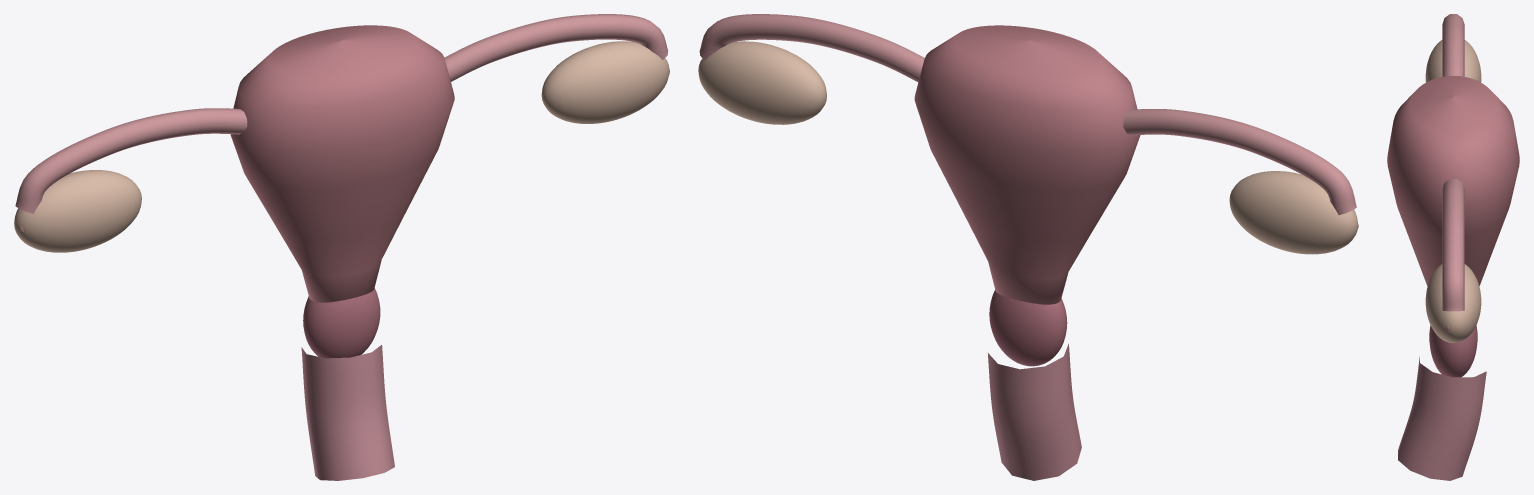
The model's file is female-reproductive.glb.
The picture shows the model from 3 angles, left to right: view 1: azimuth 30°, elevation 25°; view 2: azimuth 150°, elevation 25°; view 3: azimuth 270°, elevation 25°; orthographic projection. The views are drawn at different scales.
Parts seen in each view (by area): view 1: organ_uterus, organ_vagina, organ_left_ovary, organ_right_ovary, organ_right_uterine_tube, organ_left_uterine_tube, organ_cervix; view 2: organ_uterus, organ_vagina, organ_left_ovary, organ_right_ovary, organ_right_uterine_tube, organ_left_uterine_tube, organ_cervix; view 3: organ_uterus, organ_vagina, organ_left_uterine_tube, organ_left_ovary, organ_cervix, organ_right_uterine_tube, organ_right_ovary.
Boxes of the visible parts, x1,y1,x2,y2 form: organ_uterus: (230,25,454,302); organ_vagina: (301,345,394,480); organ_left_ovary: (541,41,669,123); organ_right_ovary: (14,170,141,252); organ_right_uterine_tube: (15,108,247,213); organ_left_uterine_tube: (444,14,668,81); organ_cervix: (303,288,380,358); organ_uterus: (914,25,1140,304); organ_vagina: (987,343,1081,480); organ_left_ovary: (698,41,826,124); organ_right_ovary: (1229,171,1357,254); organ_right_uterine_tube: (1123,109,1356,214); organ_left_uterine_tube: (699,14,924,82); organ_cervix: (989,290,1067,366); organ_uterus: (1387,75,1519,286); organ_vagina: (1398,356,1486,480); organ_left_uterine_tube: (1442,179,1464,311); organ_left_ovary: (1425,264,1481,343); organ_cervix: (1429,325,1477,377); organ_right_uterine_tube: (1442,14,1464,76); organ_right_ovary: (1425,40,1481,82).
Bounding box in the file's own units: 0.704 × 0.4449 × 0.1426.
